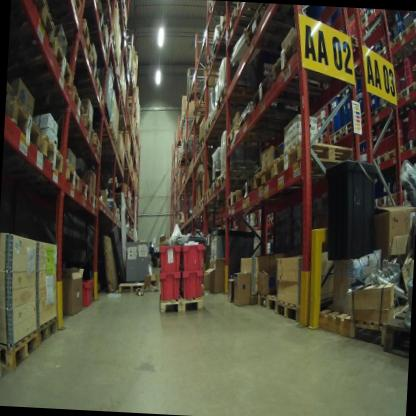pallet: (264, 32, 370, 101), (274, 134, 369, 188), (248, 72, 326, 122), (252, 159, 331, 199), (244, 9, 300, 60), (5, 90, 45, 159), (29, 34, 79, 89), (271, 290, 333, 334), (236, 96, 312, 130), (224, 121, 292, 157), (1, 326, 39, 384), (9, 0, 61, 42), (342, 303, 393, 345), (32, 83, 89, 120), (204, 108, 248, 144), (382, 302, 410, 358), (58, 11, 92, 56), (156, 292, 207, 321), (323, 299, 355, 344), (57, 112, 99, 146), (37, 125, 66, 173), (225, 9, 263, 44), (87, 0, 118, 40), (33, 314, 61, 355), (243, 2, 273, 37), (213, 80, 243, 115), (215, 168, 257, 192), (375, 44, 409, 72), (389, 22, 416, 57), (205, 48, 237, 77), (340, 103, 369, 134), (80, 72, 104, 108), (252, 283, 284, 309), (81, 45, 101, 85), (58, 157, 80, 192), (356, 9, 384, 35), (240, 173, 260, 206), (368, 149, 387, 181), (4, 78, 17, 124), (53, 0, 84, 19), (116, 279, 147, 297), (228, 184, 248, 210), (385, 141, 403, 168), (397, 82, 416, 107), (398, 129, 416, 155), (95, 32, 112, 59), (383, 90, 401, 115), (76, 178, 92, 206), (217, 12, 230, 44), (0, 335, 7, 392), (98, 135, 120, 152), (193, 100, 209, 122), (371, 101, 387, 123), (91, 131, 104, 158), (97, 122, 121, 136), (329, 124, 343, 145), (329, 136, 346, 152), (407, 13, 416, 43), (342, 126, 355, 145), (89, 186, 97, 209), (210, 181, 219, 199), (211, 39, 219, 59), (204, 187, 210, 203), (190, 206, 198, 216), (200, 195, 204, 208), (197, 198, 199, 208)
small_load_carrier: (156, 238, 185, 274), (153, 269, 182, 299), (180, 238, 206, 271), (181, 270, 204, 301), (81, 276, 97, 311)
